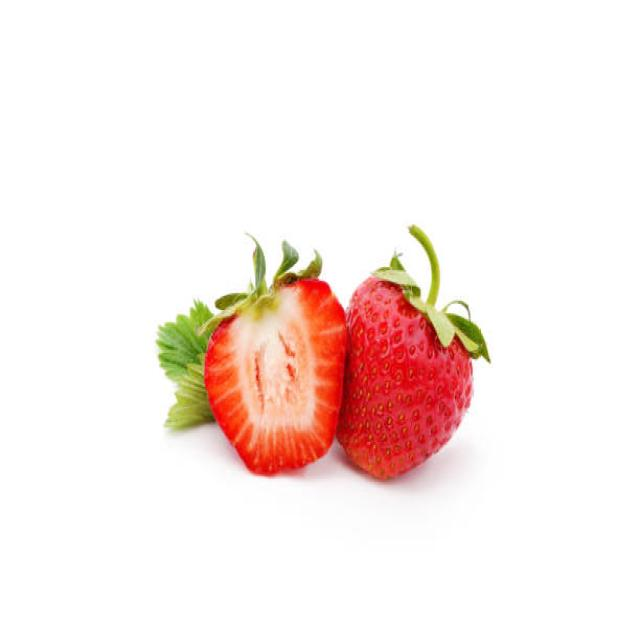Healthy Fruit: (207, 275, 347, 475), (338, 272, 474, 477)
